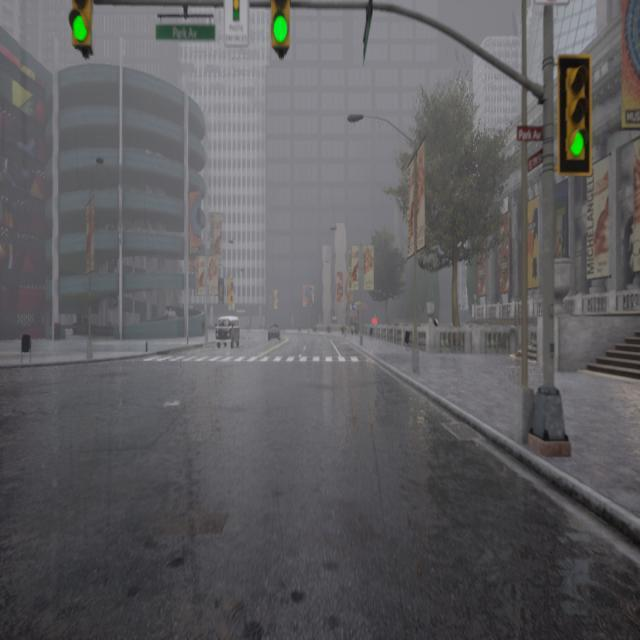bien_chi_dan: (68, 11, 96, 51), (272, 14, 292, 46), (569, 127, 589, 158)
bien_nguy_hiem: (556, 58, 594, 172), (68, 0, 100, 101), (265, 0, 300, 70)
